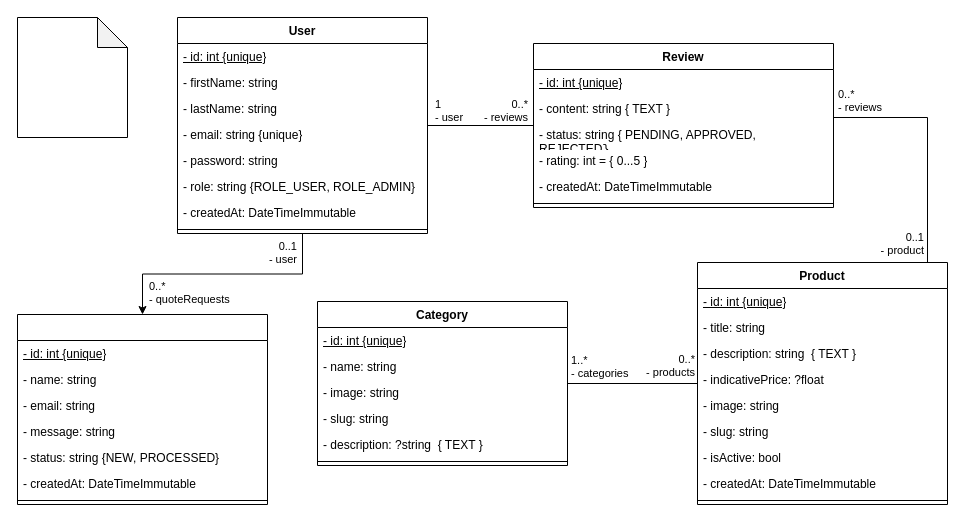
The diagram is 965 pixels wide and 522 high, and some of its shapes have lost their labels. The shapes that lost their labels are listed below. From the top down, each one's box as (x1, y1, x2, y2) in pixels, then its label:
(16, 16, 128, 138): Toutes les classes auront Getter / Setter publiques
(16, 314, 268, 504): QuoteRequest
